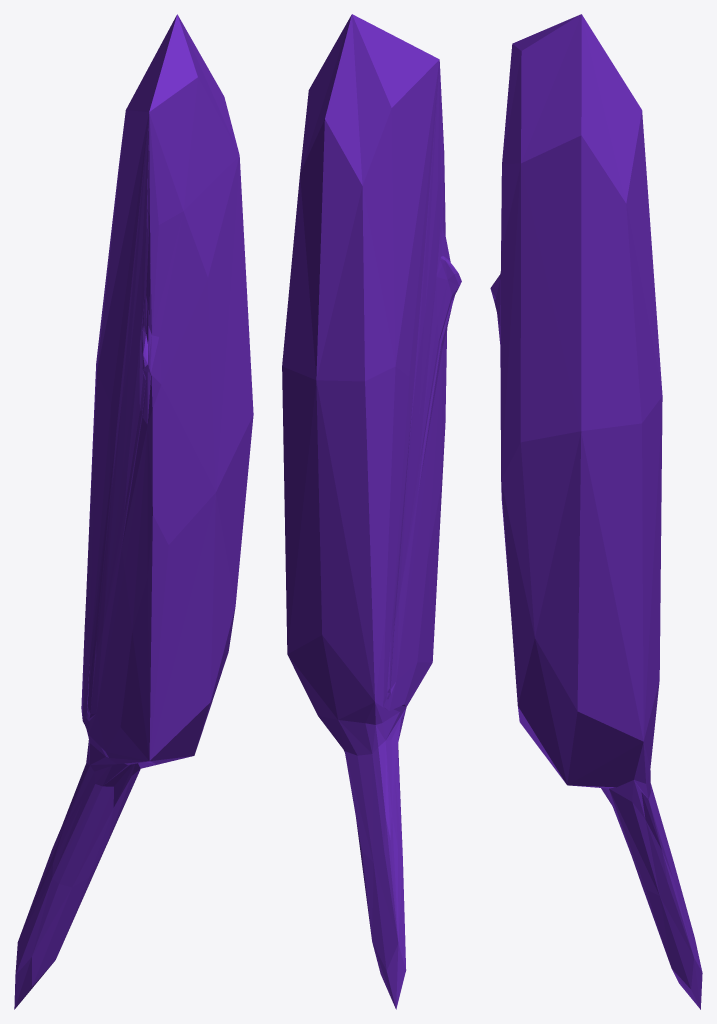
3 views of the same model, side by side, from view 1: azimuth 30°, elevation 25°; view 2: azimuth 150°, elevation 25°; view 3: azimuth 270°, elevation 25° (orthographic). The views are drawn at different scales.
Parts seen in each view (by area): view 1: 010_Cube.052; view 2: 010_Cube.052; view 3: 010_Cube.052.
Part boxes in pixels (x1,y1,x2,y2): 010_Cube.052: (14, 14, 253, 1009); 010_Cube.052: (282, 14, 461, 1009); 010_Cube.052: (490, 14, 702, 1009).
Bounding box in the file's own units: 2.93 × 16.4 × 3.
